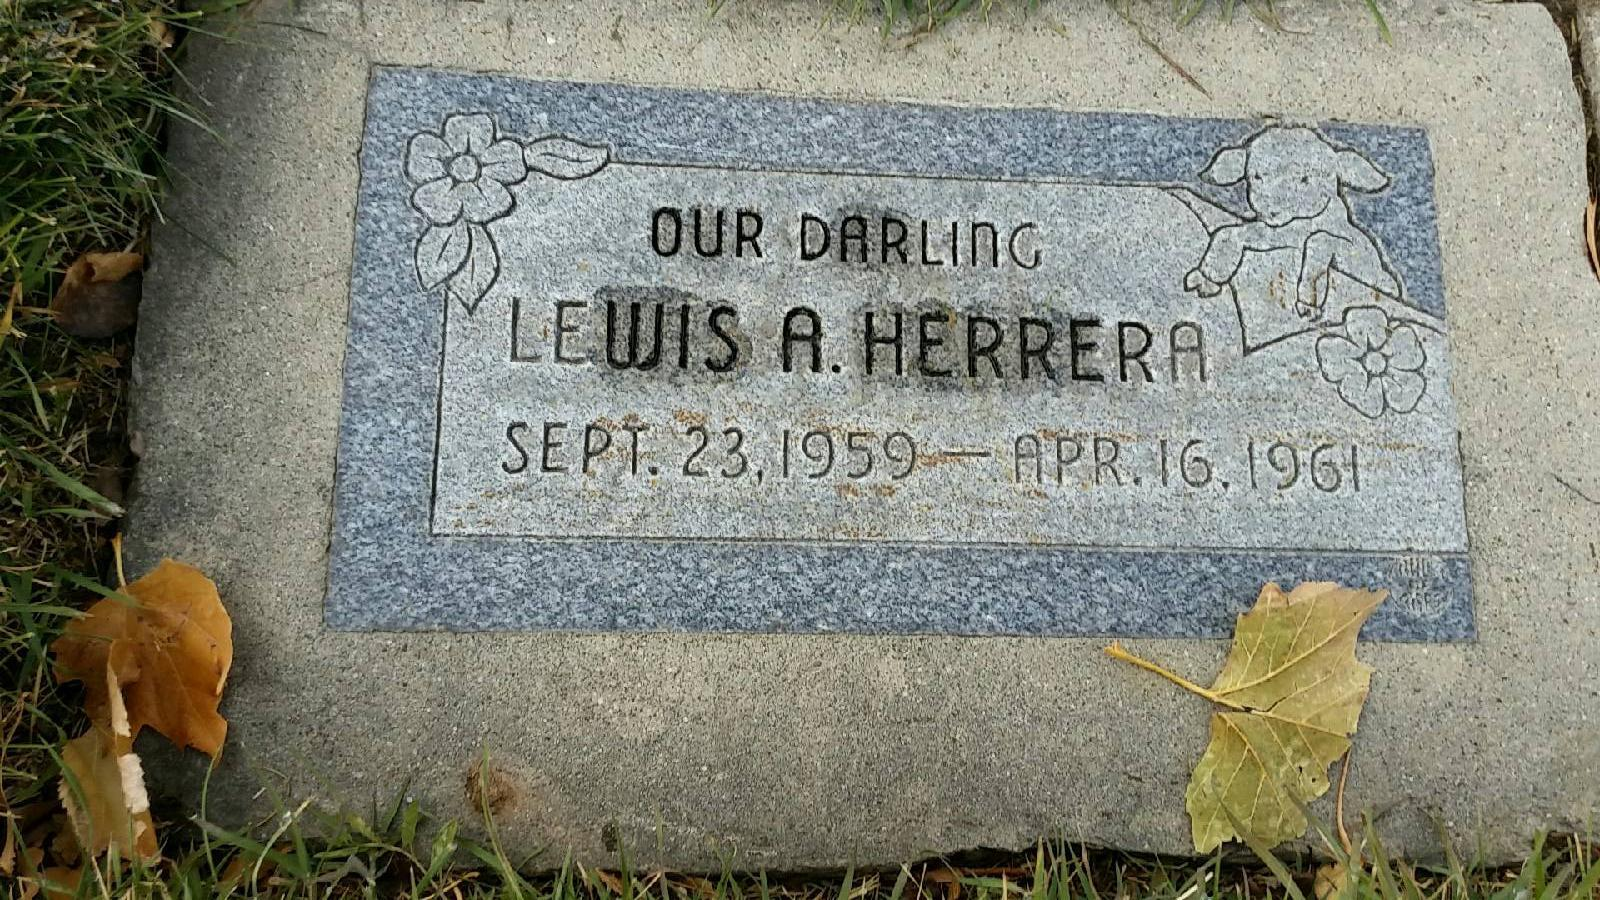flat: (162, 16, 1600, 870)
